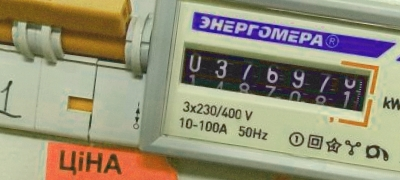0: (185, 49, 201, 72)
1: (338, 88, 352, 109)
3: (212, 56, 229, 79)
6: (263, 59, 281, 84)
7: (237, 57, 255, 83), (314, 69, 332, 94)
9: (288, 65, 305, 88)
screen: (166, 27, 383, 130)
